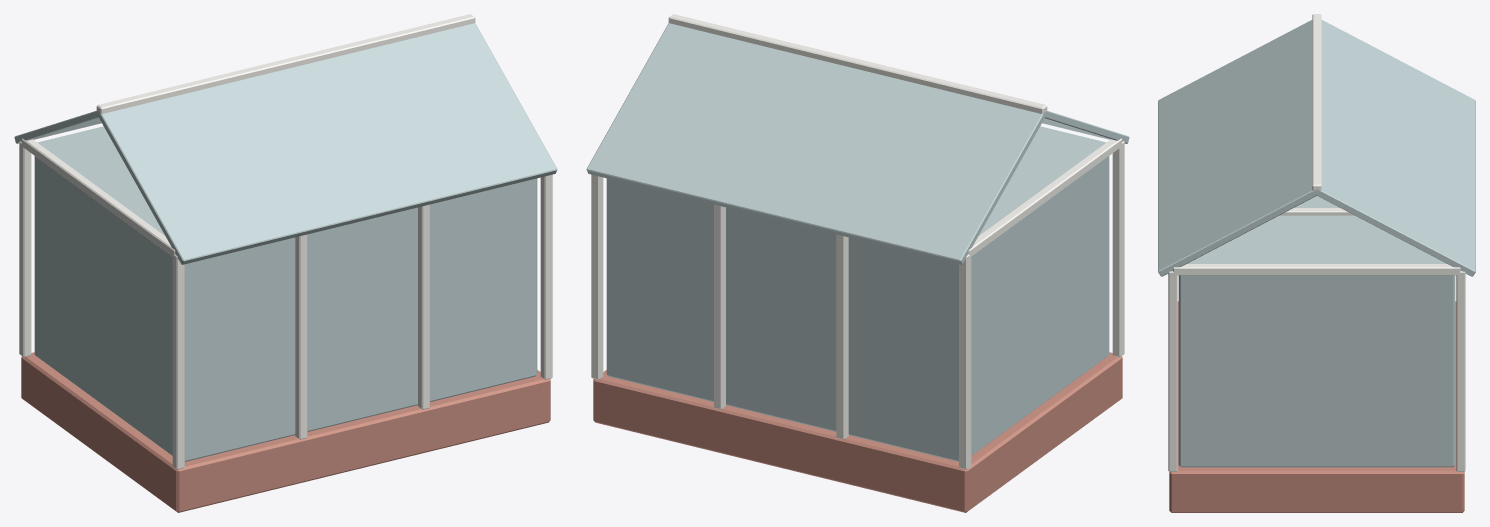
The picture shows the model from 3 angles, left to right: view 1: azimuth 30°, elevation 25°; view 2: azimuth 150°, elevation 25°; view 3: azimuth 270°, elevation 25°; orthographic projection. The views are drawn at different scales.
Visible parts, largest first — view 1: Greenhouse; view 2: Greenhouse; view 3: Greenhouse.
Boxes of the visible parts, x1,y1,x2,y2 form: Greenhouse: [14, 14, 557, 512]; Greenhouse: [586, 14, 1129, 512]; Greenhouse: [1158, 14, 1475, 512].
Size of the model in its own units: 2.21 by 1.97 by 1.72.
